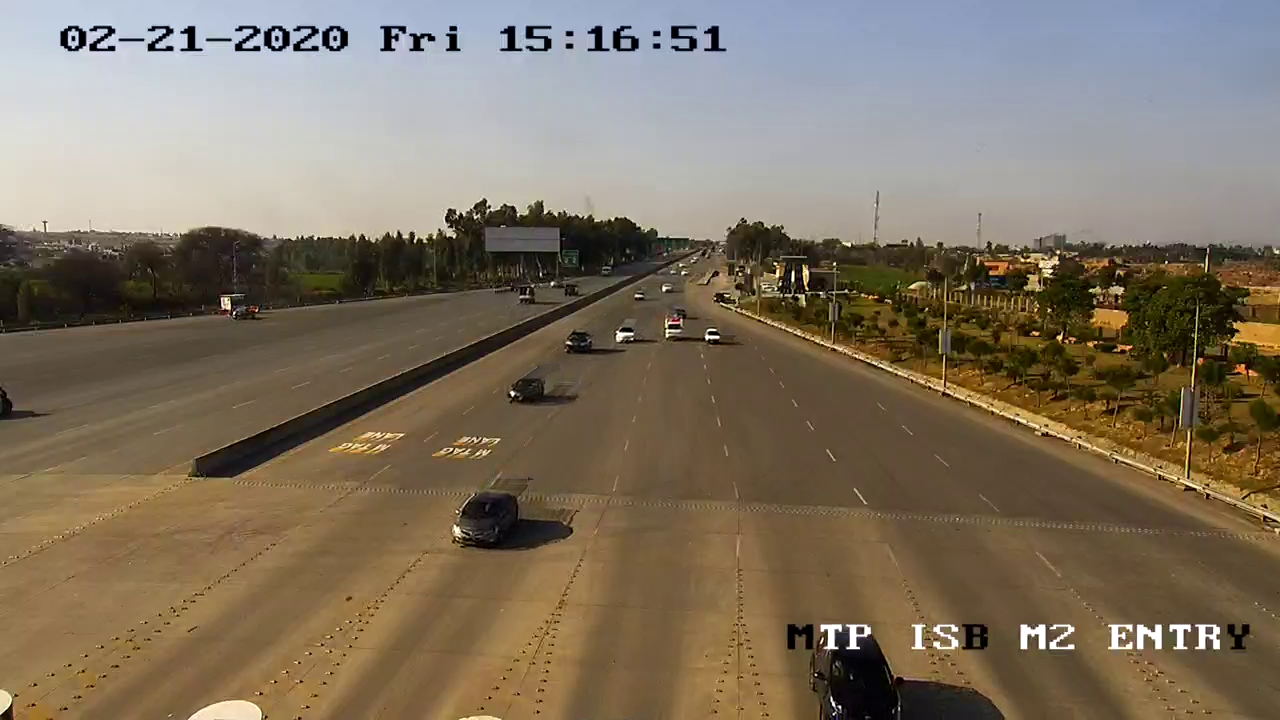f1: (447, 480, 525, 551)
